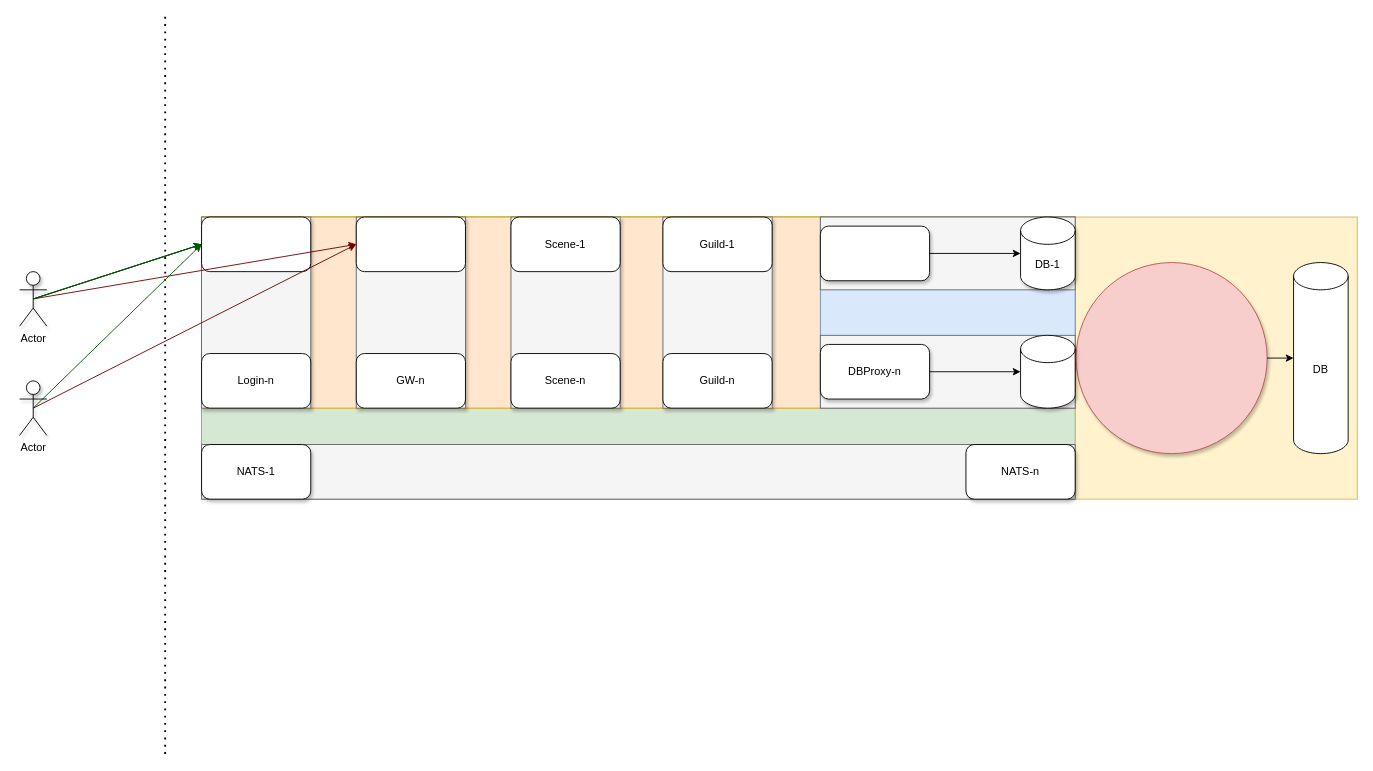
The diagram is 1373 pixels wide and 771 high, and some of its shapes have lost their labels. Each missing label, with the centre of its shape:
DB-n: point (1048, 373)
DBProxy-1: point (875, 254)
GW-1: point (410, 244)
Login-1: point (256, 244)
ServerRegistry & ConfigCenter: point (1172, 359)
